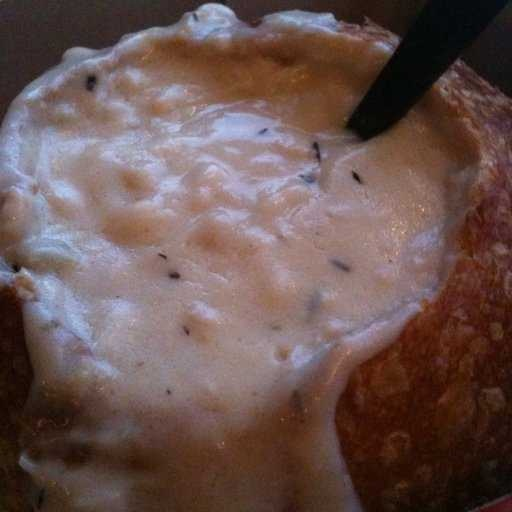soup: (1, 18, 501, 479)
